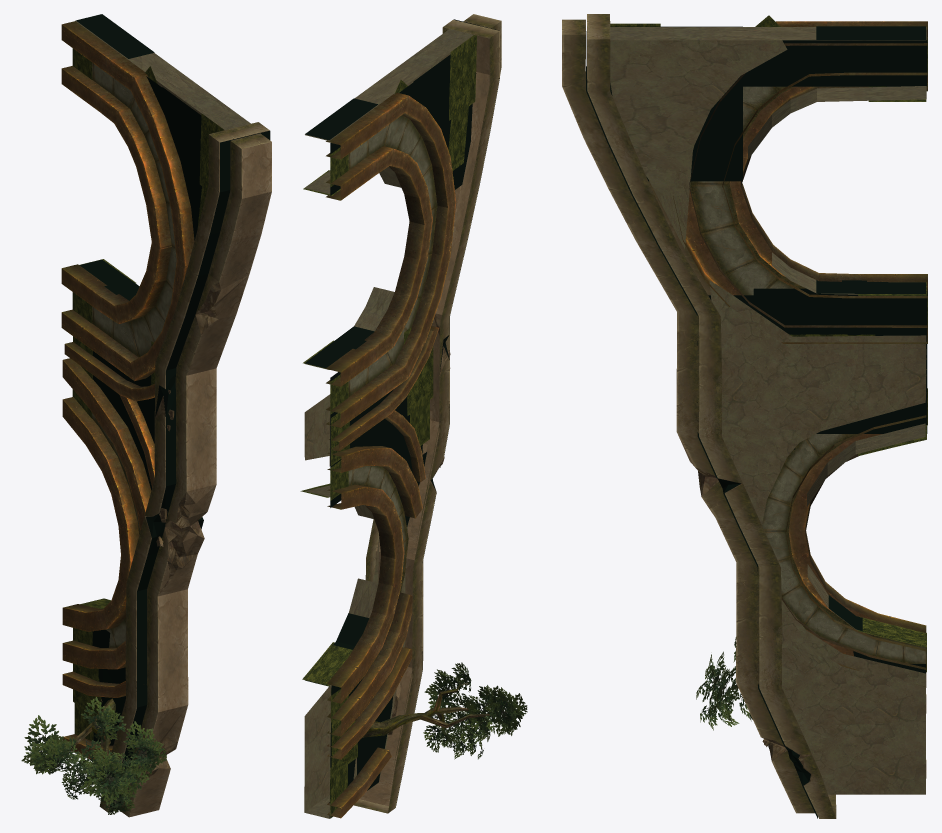
File: juqing_yewai_592_qiao01a.obj
The picture shows the model from 3 angles, left to right: view 1: azimuth 30°, elevation 25°; view 2: azimuth 150°, elevation 25°; view 3: azimuth 270°, elevation 25°; orthographic projection. The views are drawn at different scales.
Parts seen in each view (by area): view 1: juqing_yewai_592_qiao01a; view 2: juqing_yewai_592_qiao01a; view 3: juqing_yewai_592_qiao01a.
Part boxes in pixels (box(x1,y1,x2,y2)): juqing_yewai_592_qiao01a: box(21, 14, 271, 817); juqing_yewai_592_qiao01a: box(300, 14, 527, 818); juqing_yewai_592_qiao01a: box(562, 14, 927, 818).
Size of the model in its own units: 1028 by 4438 by 1868.
9 materials, 9 textured.
